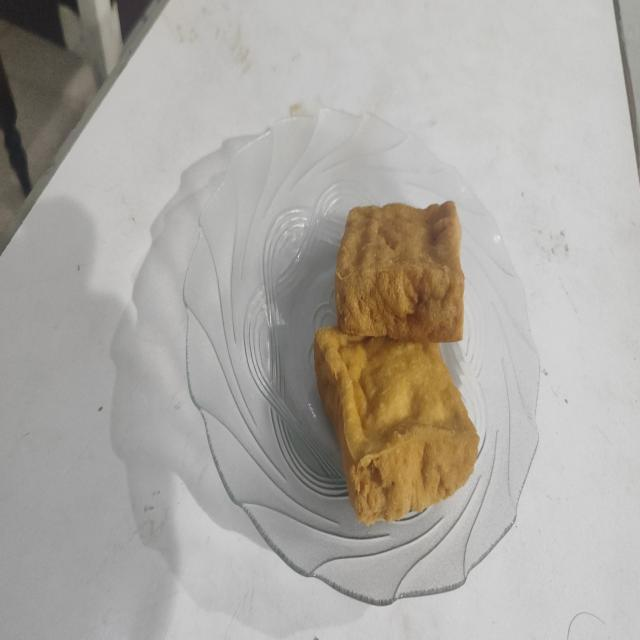tahu_goreng: (314, 327, 479, 524), (335, 202, 464, 342)
